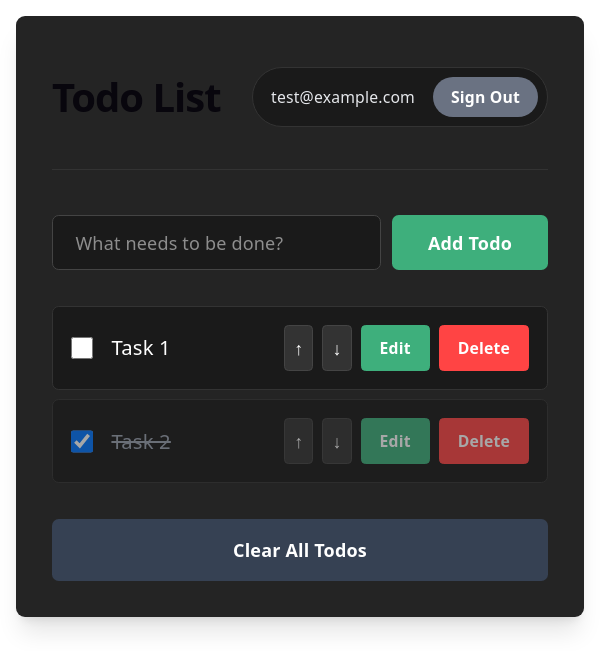
Test: Todo App Functions › handleDeleteAll deletes all records from the database
The image size is (601, 651).
Click the button "Clear All Todos": (300, 550) x1=52 y1=519 x2=548 y2=582
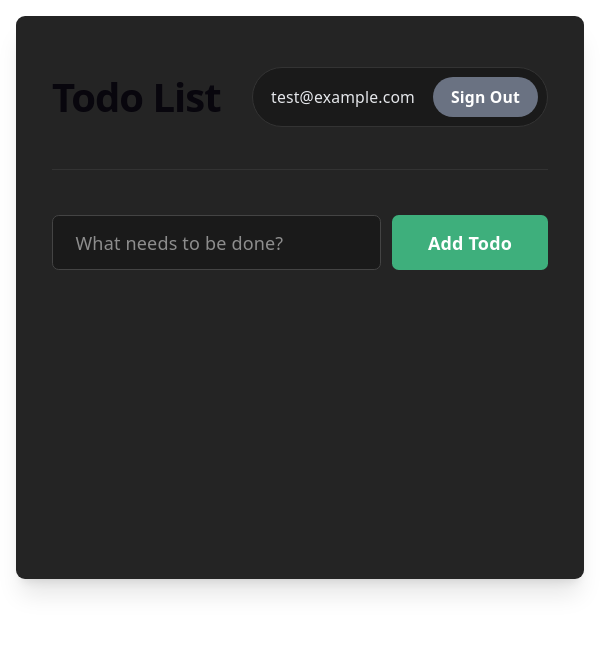
Now no list items are shown
